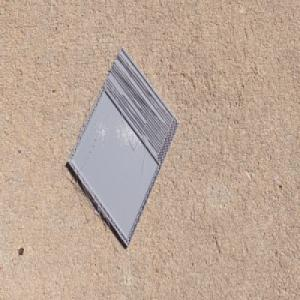PlasticPart: (65, 46, 180, 250)
